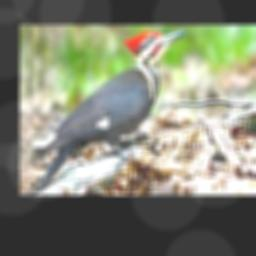Woodpecker: (29, 31, 186, 195)
